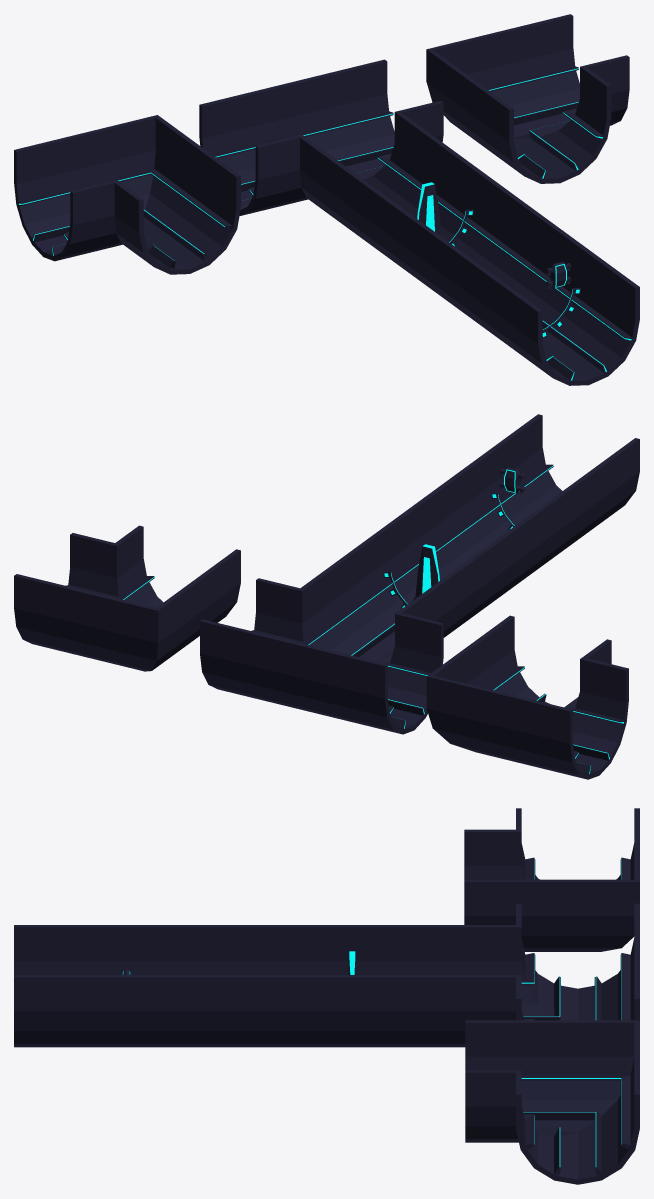
Rendered from Pipes.fbx.
The picture shows the model from 3 angles, top to bottom: view 1: azimuth 30°, elevation 25°; view 2: azimuth 150°, elevation 25°; view 3: azimuth 270°, elevation 25°; orthographic projection. The views are drawn at different scales.
Parts seen in each view (by area): view 1: LeftPipe, T-Pipe, RightPipe, StraightPipe, StraightPipeWithWall; view 2: T-Pipe, LeftPipe, RightPipe, StraightPipeWithWall, StraightPipe, Obstacle; view 3: StraightPipeWithWall, StraightPipe, RightPipe, LeftPipe, T-Pipe.
Part boxes in pixels (x1,y1,x2,y2): LeftPipe: [14, 115, 240, 274]; T-Pipe: [199, 59, 443, 221]; RightPipe: [426, 14, 629, 183]; StraightPipe: [431, 209, 639, 385]; StraightPipeWithWall: [324, 130, 532, 299]; T-Pipe: [200, 570, 443, 734]; LeftPipe: [426, 615, 628, 779]; RightPipe: [14, 525, 240, 671]; StraightPipeWithWall: [325, 492, 532, 662]; StraightPipe: [431, 414, 639, 582]; Obstacle: [500, 467, 524, 494]; StraightPipeWithWall: [239, 925, 465, 1047]; StraightPipe: [14, 925, 239, 1047]; RightPipe: [465, 1020, 639, 1184]; LeftPipe: [464, 808, 639, 951]; T-Pipe: [464, 903, 639, 1047].
Size of the model in its own units: 3604 by 530 by 3330.
